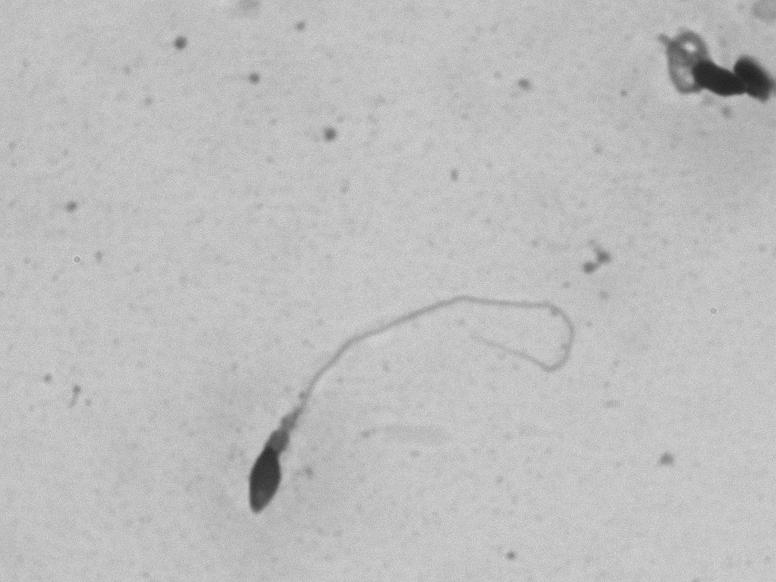Abnormal: (221, 253, 609, 548)
